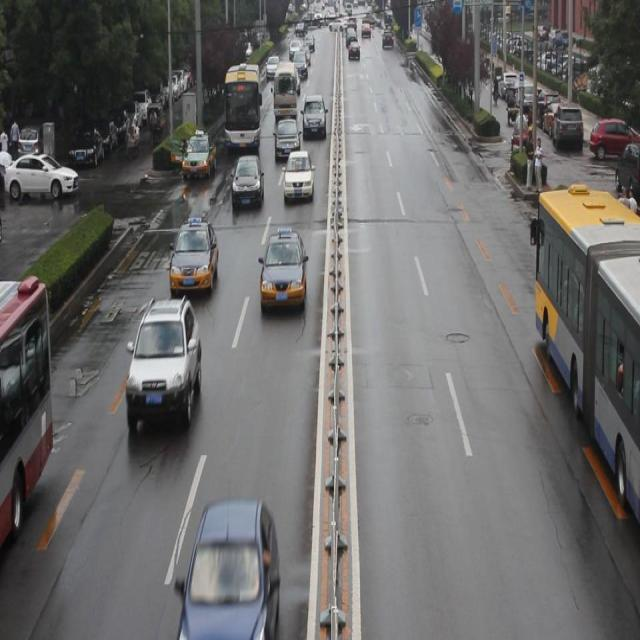car: (178, 502, 278, 630), (126, 298, 201, 432), (259, 229, 305, 311), (170, 216, 215, 296), (230, 154, 263, 206), (183, 134, 216, 184), (282, 151, 312, 199), (301, 95, 327, 136), (274, 117, 299, 159)
truck: (273, 62, 297, 120)
van: (531, 183, 640, 519), (1, 277, 57, 534), (224, 64, 261, 152)
